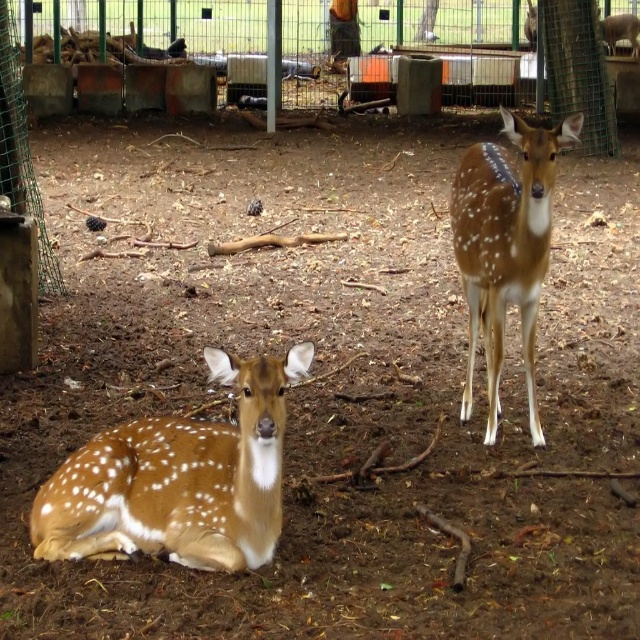Deer: (28, 340, 317, 583), (446, 100, 585, 447)
